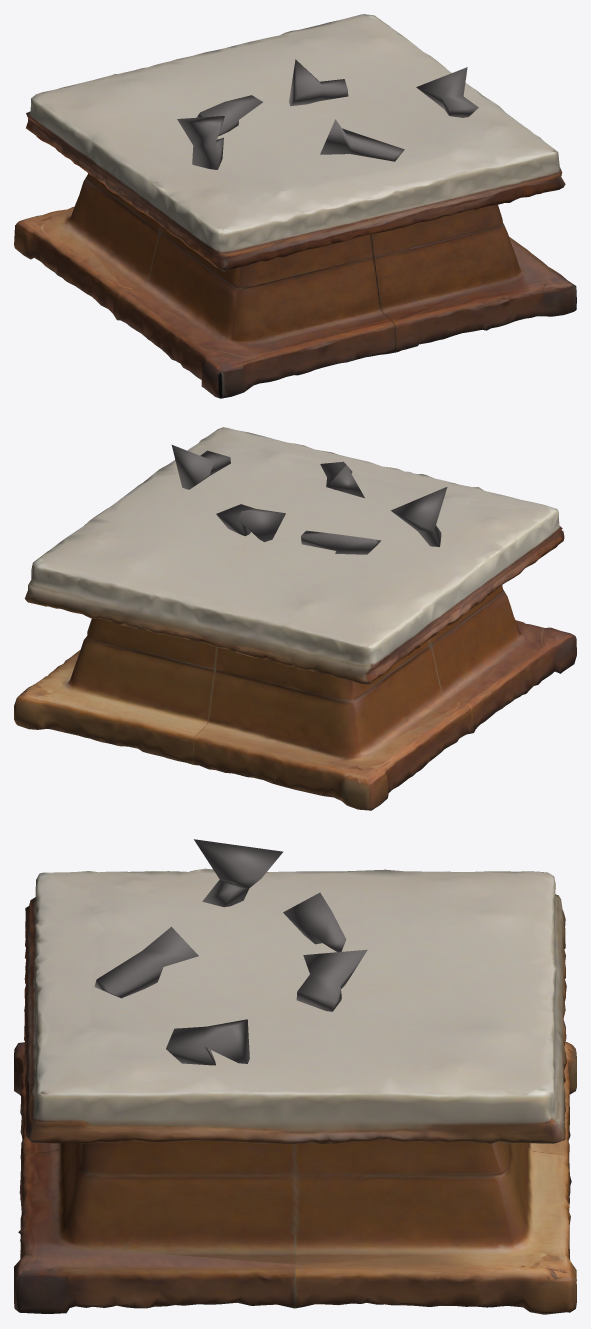
Rendered from benda27.glb.
3 renders of one model, top to bottom at view 1: azimuth 30°, elevation 25°; view 2: azimuth 150°, elevation 25°; view 3: azimuth 270°, elevation 25°, orthographic. The views are drawn at different scales.
Visible parts, largest first — view 1: Mesh_0, rock.005, rock.003, rock.001, rock.002, rock.004; view 2: Mesh_0, rock.005, rock.002, rock.001, rock.004, rock.003; view 3: Mesh_0, rock.005, rock.003, rock.001, rock.002, rock.004.
Boxes of the visible parts, bbox=[...] form: Mesh_0: bbox=[14, 14, 576, 398]; rock.005: bbox=[177, 116, 224, 169]; rock.003: bbox=[320, 119, 404, 161]; rock.001: bbox=[416, 67, 478, 117]; rock.002: bbox=[289, 59, 348, 106]; rock.004: bbox=[197, 95, 262, 136]; Mesh_0: bbox=[14, 427, 576, 810]; rock.005: bbox=[390, 487, 447, 546]; rock.002: bbox=[216, 504, 285, 541]; rock.001: bbox=[171, 445, 230, 489]; rock.004: bbox=[301, 530, 380, 554]; rock.003: bbox=[320, 461, 364, 498]; Mesh_0: bbox=[14, 868, 576, 1314]; rock.005: bbox=[194, 839, 283, 907]; rock.003: bbox=[94, 927, 198, 998]; rock.001: bbox=[166, 1019, 249, 1065]; rock.002: bbox=[296, 949, 367, 1011]; rock.004: bbox=[283, 892, 346, 952].
Bounding box in the file's own units: 2.99 × 1.66 × 2.99.
2 materials, 1 textured.
